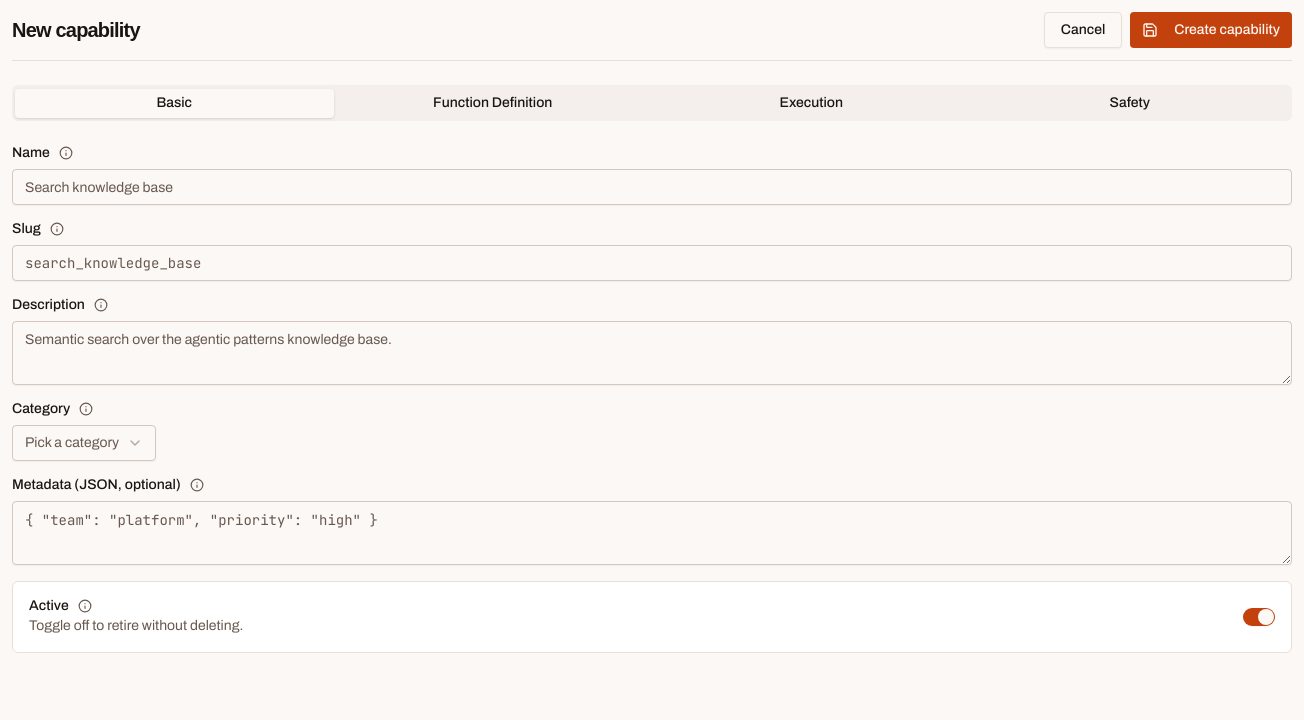
CapabilityForm — Safety tab › requiresApproval switch › renders requiresApproval switch defaulting to off
Click the tab "Safety" at (1130, 103), box [970,88,1289,118]
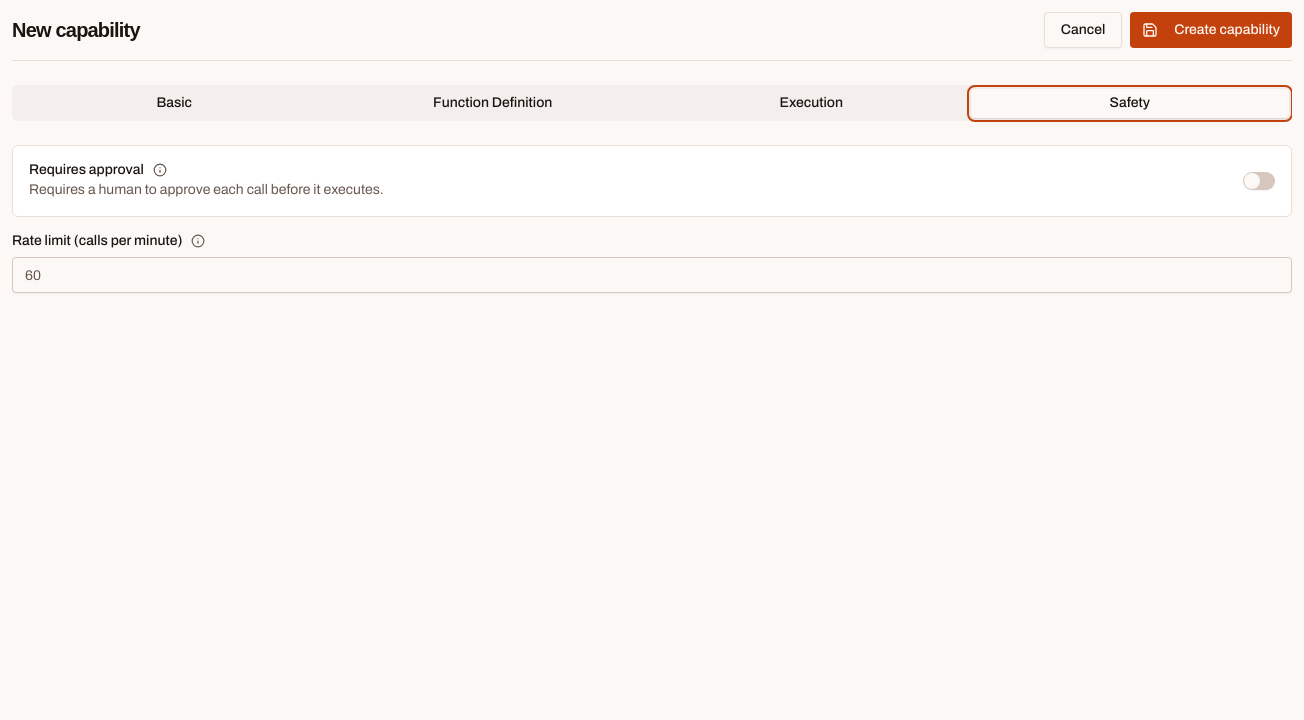
Check: the switch with id "requiresApproval" is shown, box [1243,172,1275,190]
